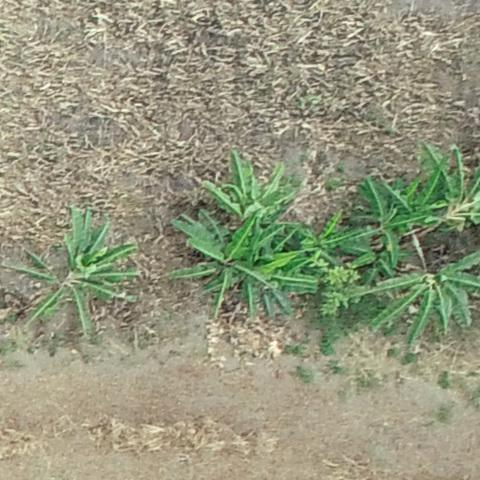Banana-plant: (14, 207, 141, 344), (165, 200, 270, 323), (369, 254, 477, 359), (335, 169, 436, 267), (202, 141, 301, 236), (237, 224, 330, 309), (408, 144, 480, 244)
